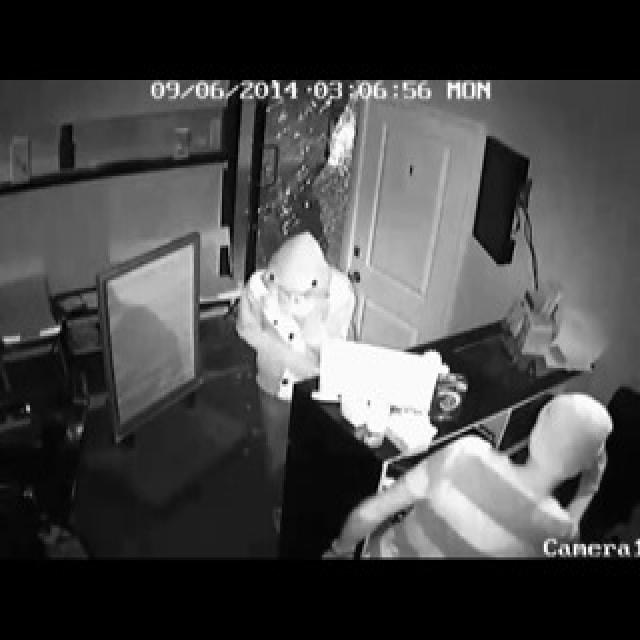thief: (327, 390, 615, 556), (234, 223, 361, 431)
